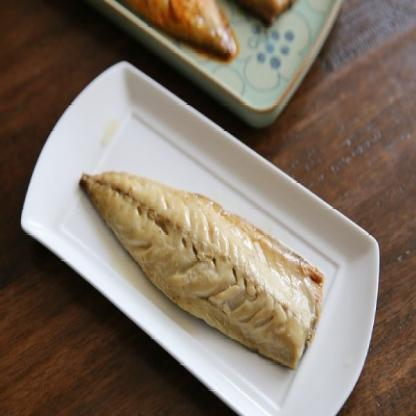Peixe: (67, 160, 350, 350)
